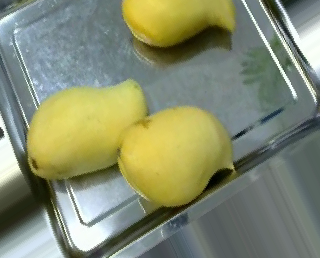Mango: (26, 79, 147, 179), (116, 105, 234, 206), (122, 0, 235, 47)
